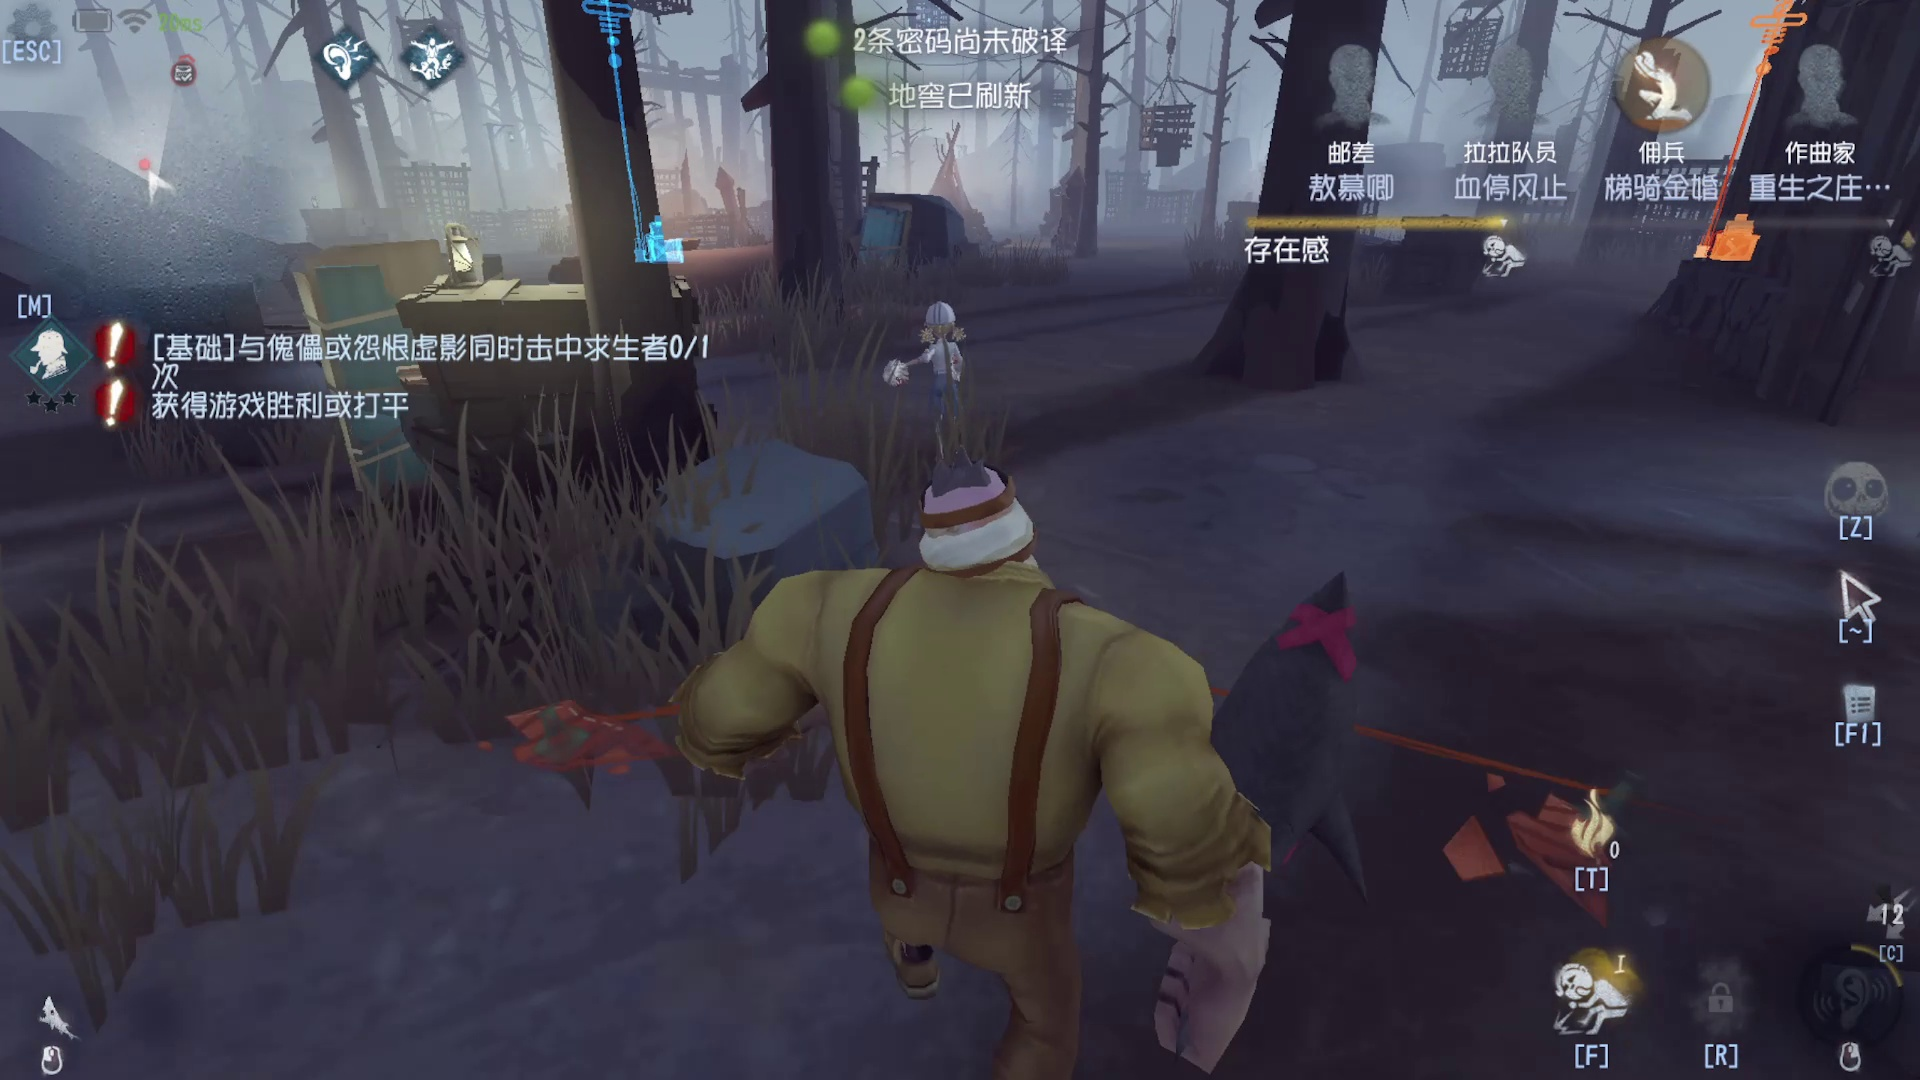密码机: (556, 3, 732, 285), (1673, 3, 1776, 289)
木板: (282, 232, 495, 502), (851, 175, 910, 289)
求生者: (895, 284, 981, 426)
